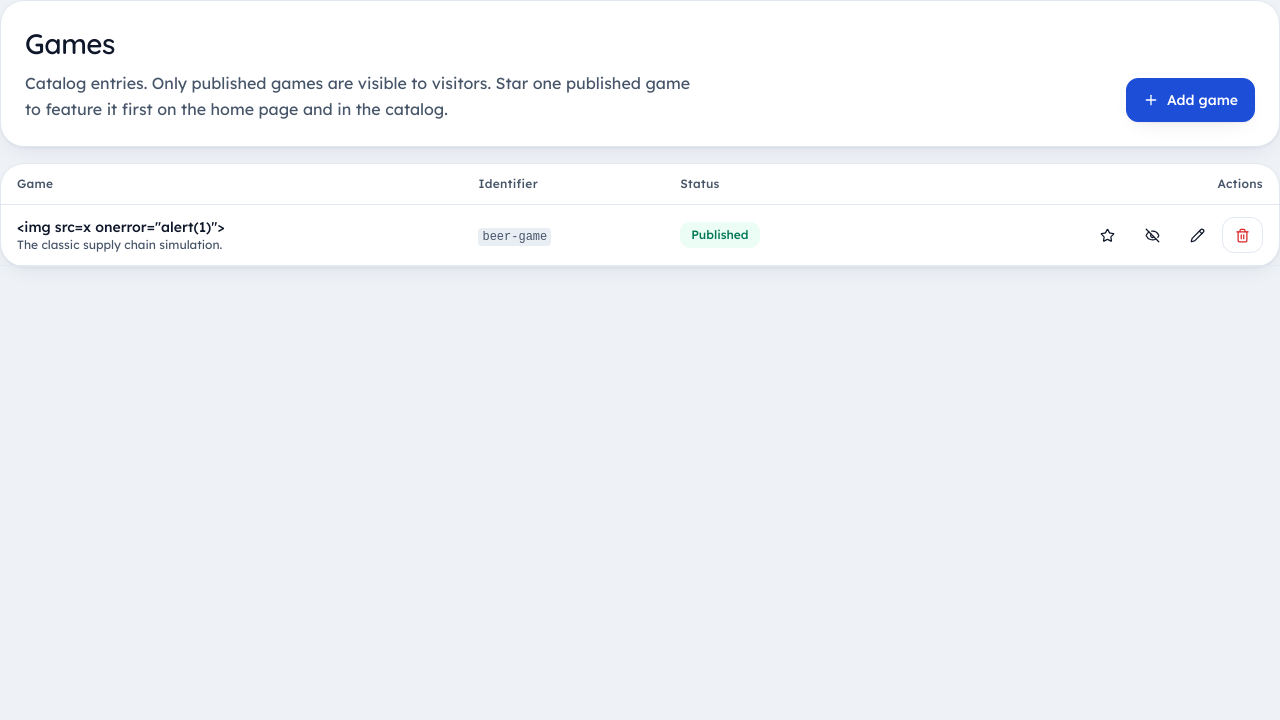
GamesList delete confirmation › renders an untrusted game name as literal text, not markup
Click the 3rd button at (1242, 235), box [1222,217,1263,253]
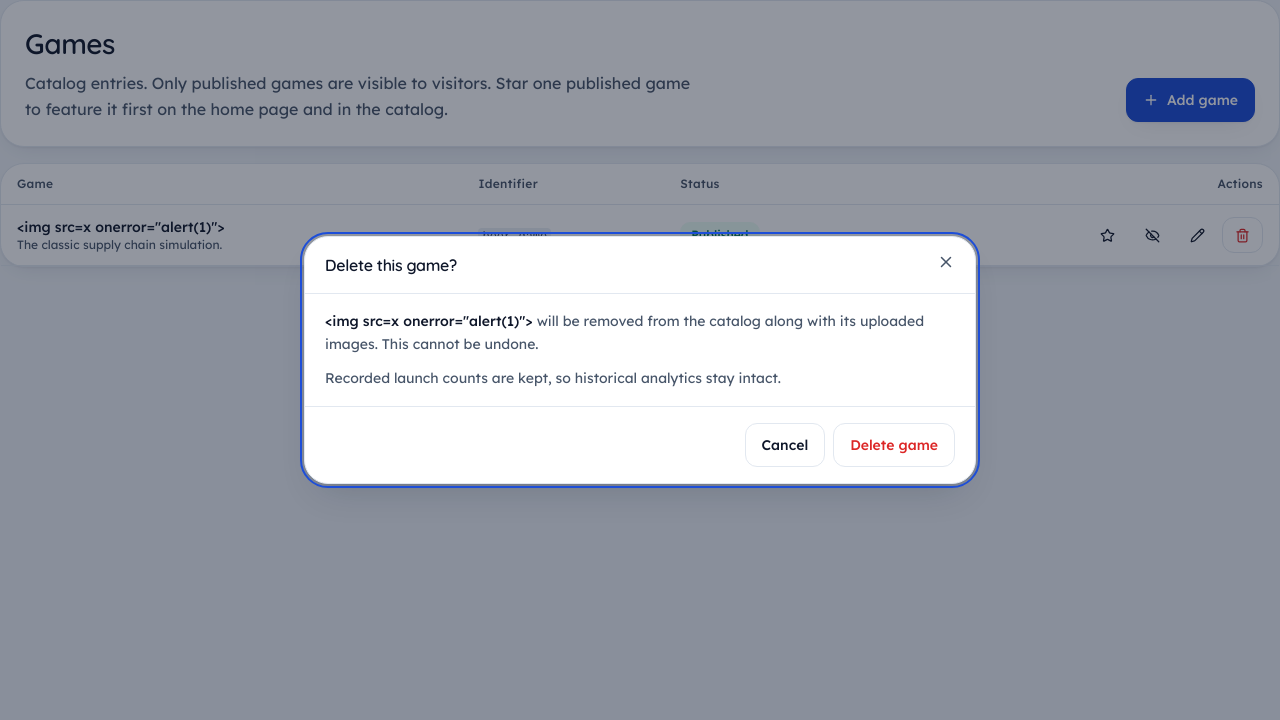
Result: the text "<img src=x onerror=\"alert(1)\">" is shown at [325,312,533,330]
